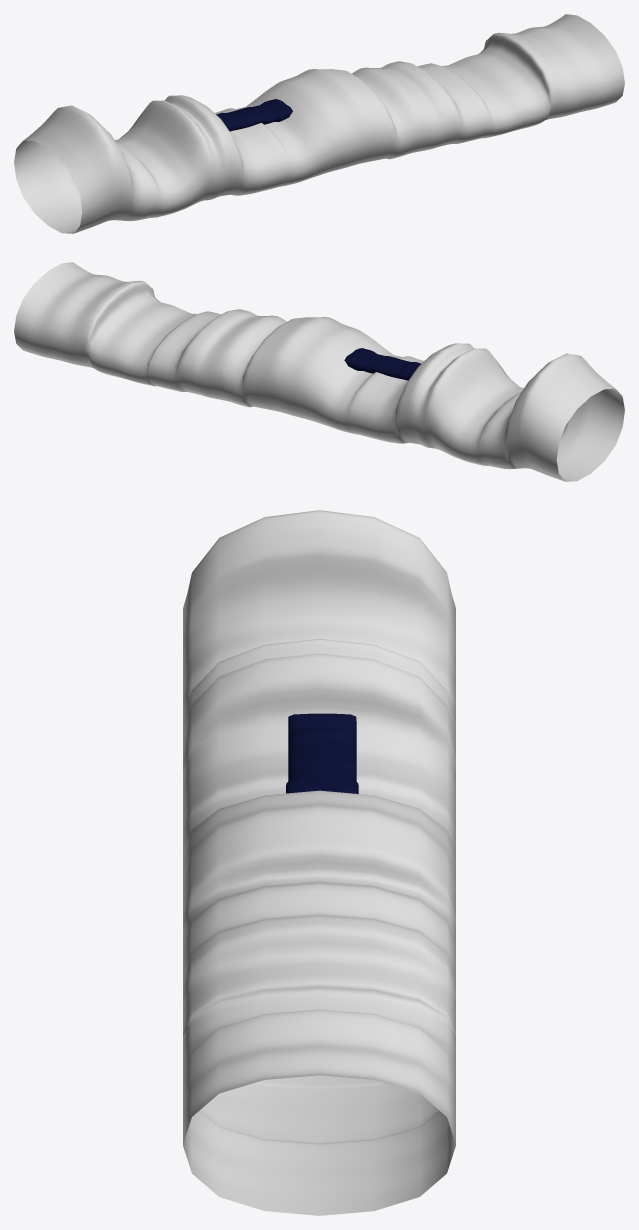
File: screen_05_00.obj
3 renders of one model, top to bottom at view 1: azimuth 30°, elevation 25°; view 2: azimuth 150°, elevation 25°; view 3: azimuth 270°, elevation 25°, orthographic. The views are drawn at different scales.
Visible parts, largest first — view 1: Ground.000_Cube.010, Ice.001_Cube.002; view 2: Ground.000_Cube.010, Ice.001_Cube.002; view 3: Ground.000_Cube.010, Ice.001_Cube.002.
Part boxes in pixels (<box>): Ground.000_Cube.010: <box>14,14,624,233</box>; Ice.001_Cube.002: <box>216,99,292,131</box>; Ground.000_Cube.010: <box>14,262,624,481</box>; Ice.001_Cube.002: <box>344,348,421,380</box>; Ground.000_Cube.010: <box>183,510,455,1215</box>; Ice.001_Cube.002: <box>286,713,358,793</box>.
Bounding box in the file's own units: 34.4 × 6.42 × 7.5.
